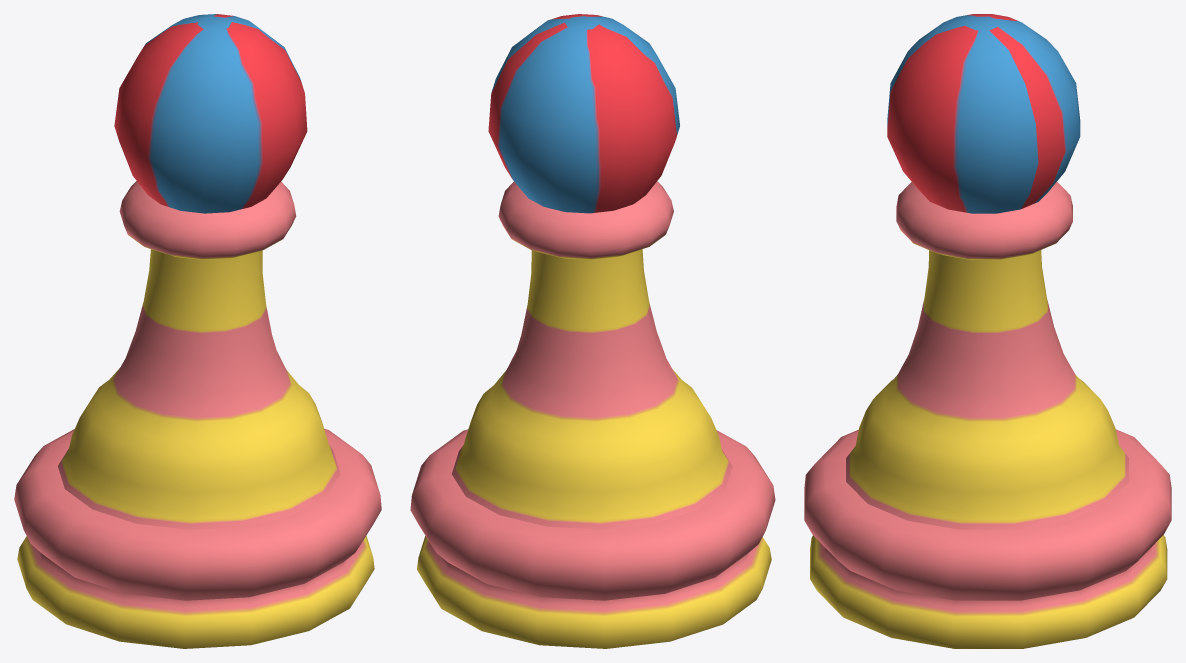
File: M_pawn.fbx
The picture shows the model from 3 angles, left to right: view 1: azimuth 30°, elevation 25°; view 2: azimuth 150°, elevation 25°; view 3: azimuth 270°, elevation 25°; orthographic projection. The views are drawn at different scales.
Visible parts, largest first — view 1: pawn; view 2: pawn; view 3: pawn.
Part boxes in pixels (x1,y1,x2,y2): pawn: (14, 14, 381, 648); pawn: (410, 14, 775, 648); pawn: (804, 14, 1171, 648).
Size of the model in its own units: 35.91 by 62.19 by 35.91.
